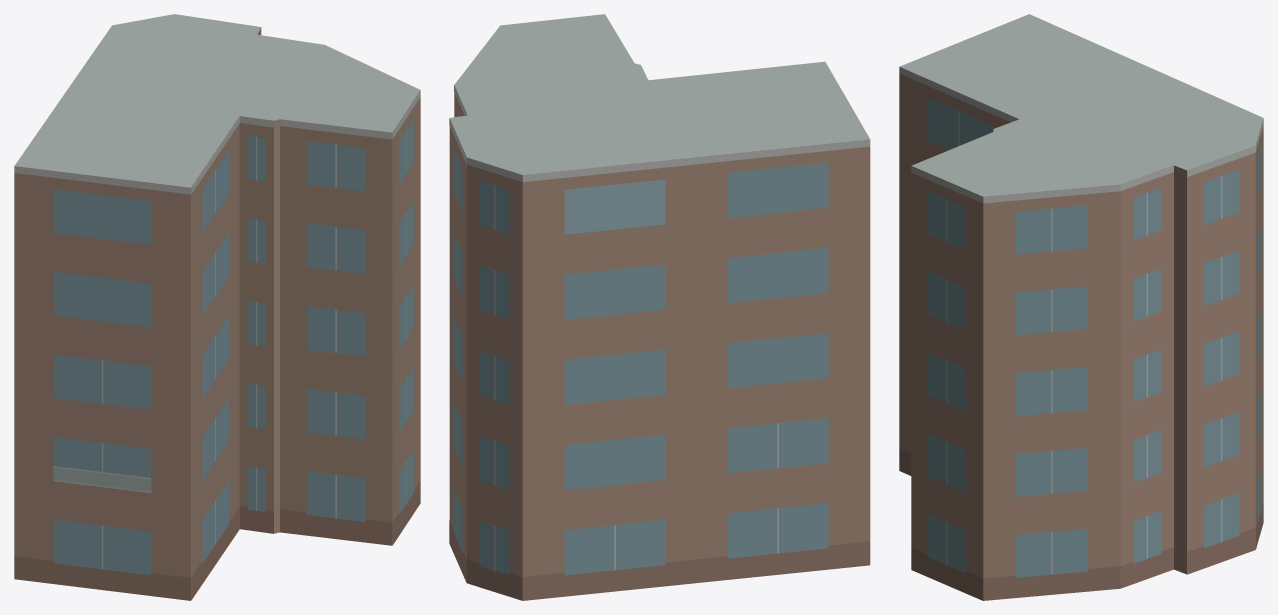
The model's file is survey-upis-32487846.glb.
3 renders of one model, left to right at view 1: azimuth 30°, elevation 25°; view 2: azimuth 150°, elevation 25°; view 3: azimuth 270°, elevation 25°, orthographic. The views are drawn at different scales.
Visible parts, largest first — view 1: survey-upis-32487846.tmp; view 2: survey-upis-32487846.tmp; view 3: survey-upis-32487846.tmp.
Part boxes in pixels (x1,y1,x2,y2): survey-upis-32487846.tmp: (14, 14, 420, 600); survey-upis-32487846.tmp: (449, 14, 870, 600); survey-upis-32487846.tmp: (899, 14, 1263, 600).
Bounding box in the file's own units: 14.16 × 14.6 × 11.94.
